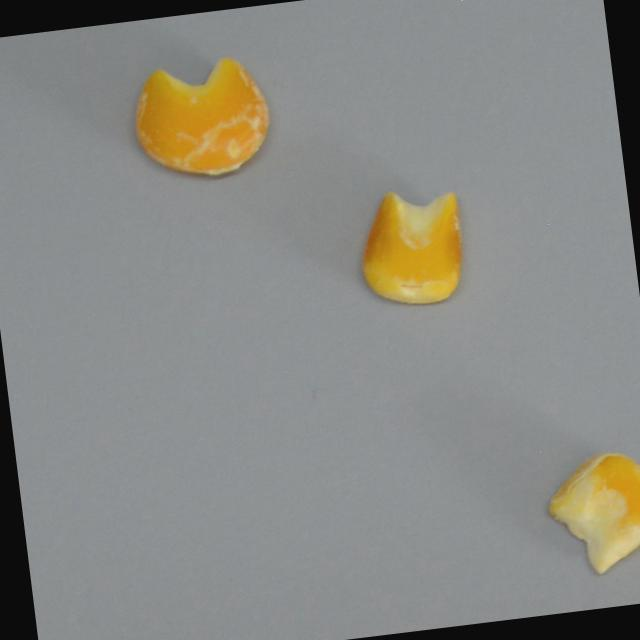dañado: (121, 48, 280, 188), (337, 173, 484, 322)
pelicula: (537, 443, 640, 585)
